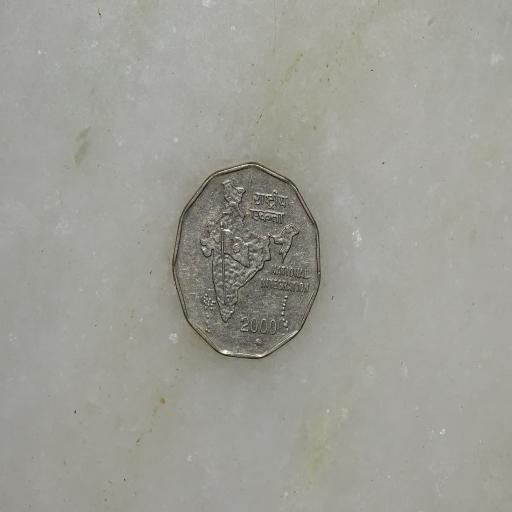rupee2: (167, 162, 326, 361)
